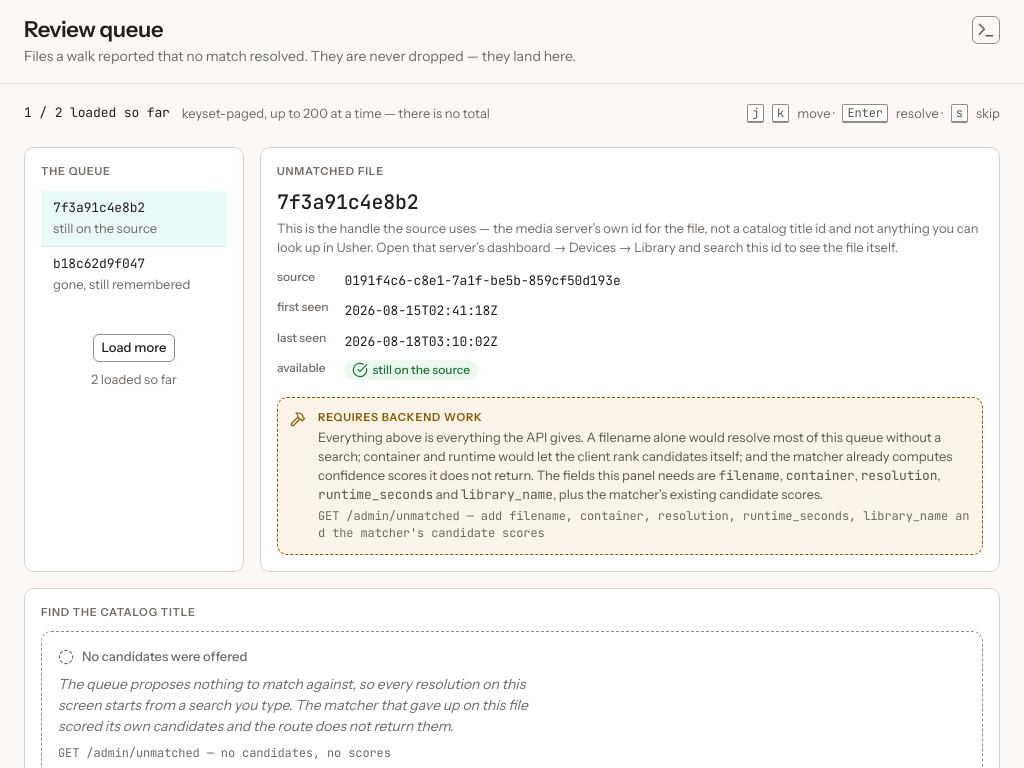
Test: Review › ready › says so in a sentence when the keyset walk ends
Click the button "Load more" at (134, 348), box [93,334,176,362]
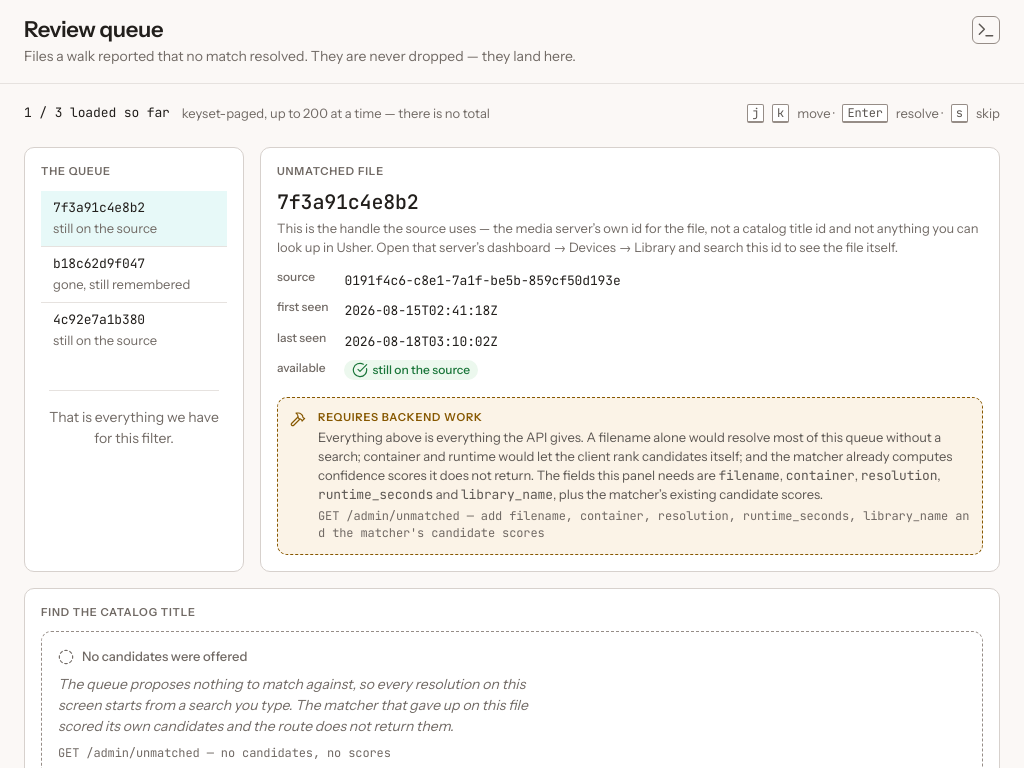
Check: the text "That is everything we have for this filter." is shown, box [49,390,219,449]
Check: the button "Load more" is gone
